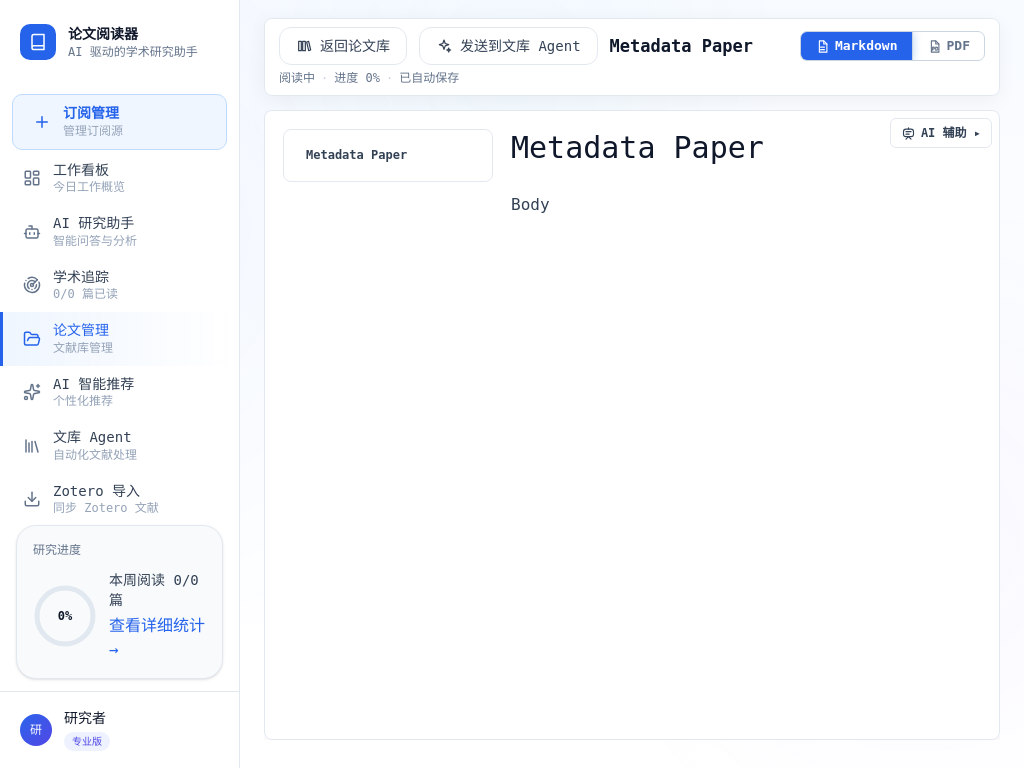
Test case: reader route translates blocks, shows failures, and retries
// 打开抽屉并切换到结构块
Click the button "AI 辅助 ▸" at {"x": 941, "y": 133}, box [890,118,992,148]
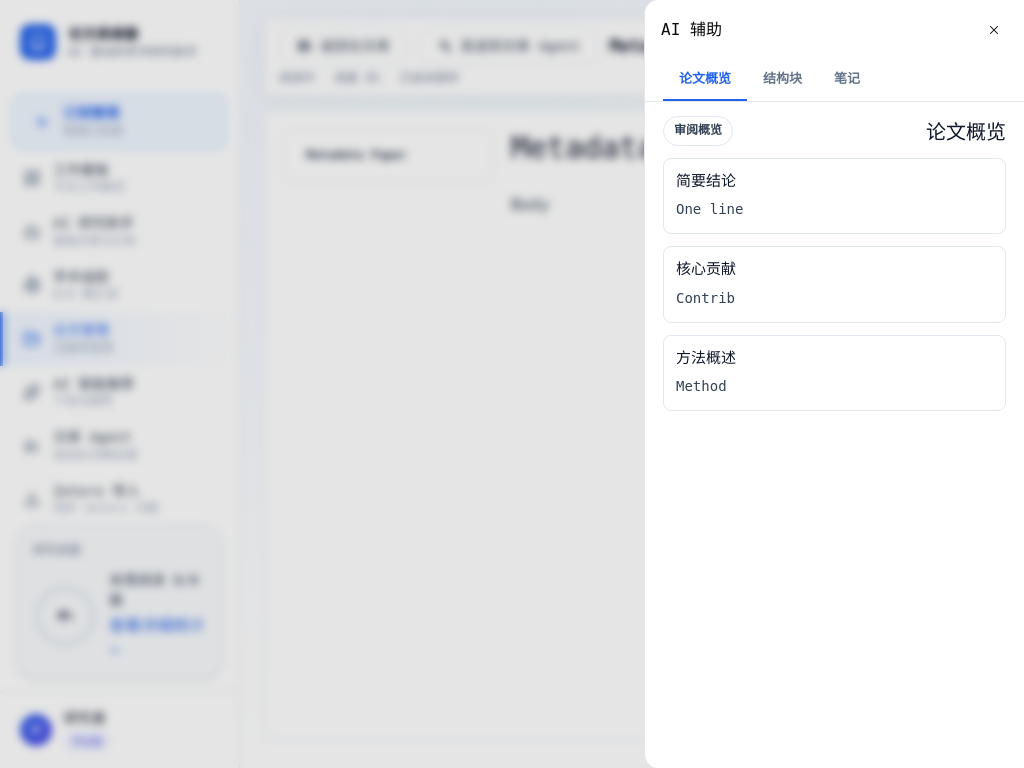
Click the tab "结构块" at {"x": 782, "y": 80}, box [747,60,818,101]
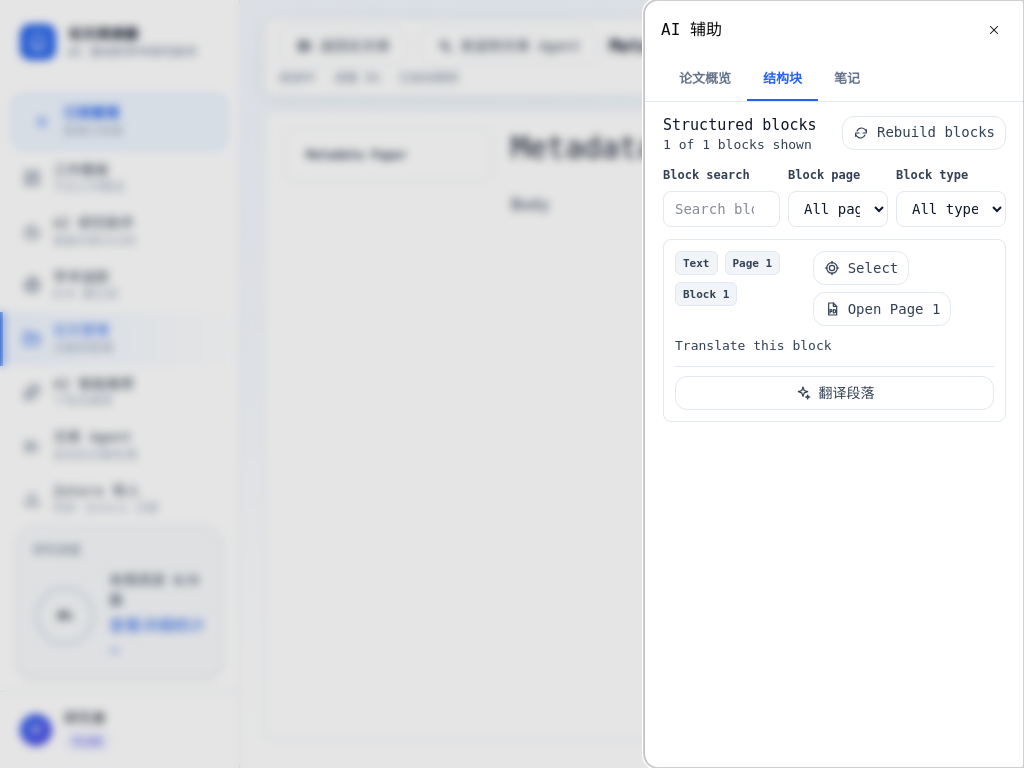
Click the button "翻译段落" at {"x": 834, "y": 394}, box [675,376,994,410]
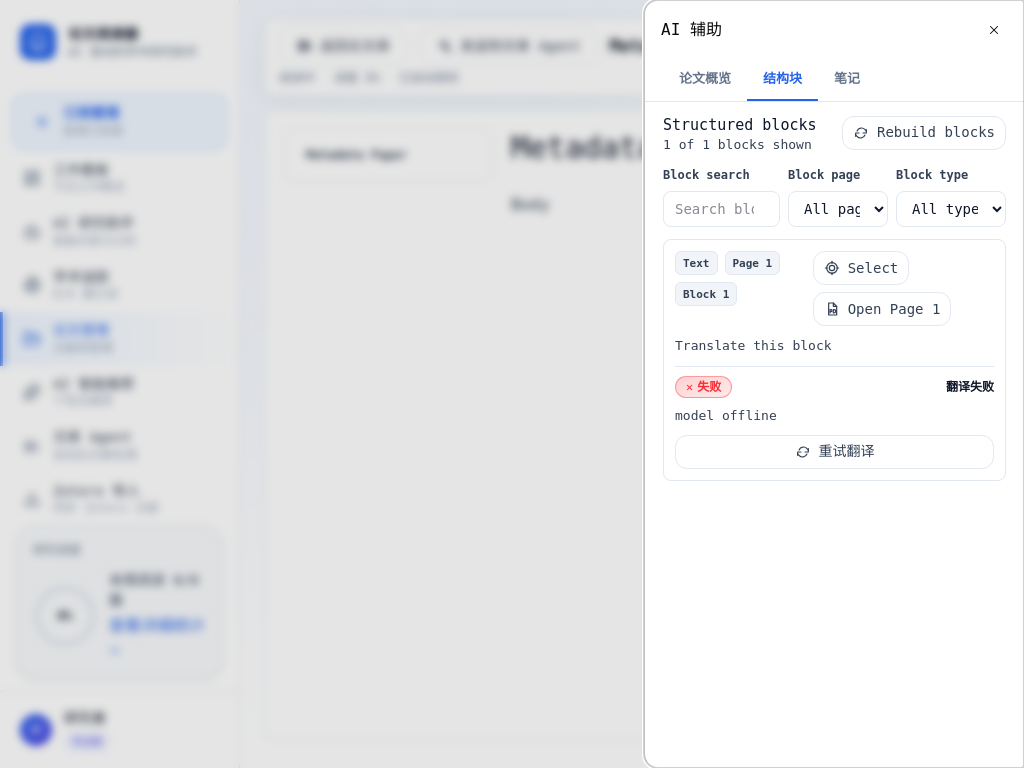
Expected: the text "翻译失败" is shown, [946,379,994,396]
Expected: the text "model offline" is shown, [675,408,777,424]
Click the button "重试翻译" at {"x": 834, "y": 452}, box [675,435,994,469]
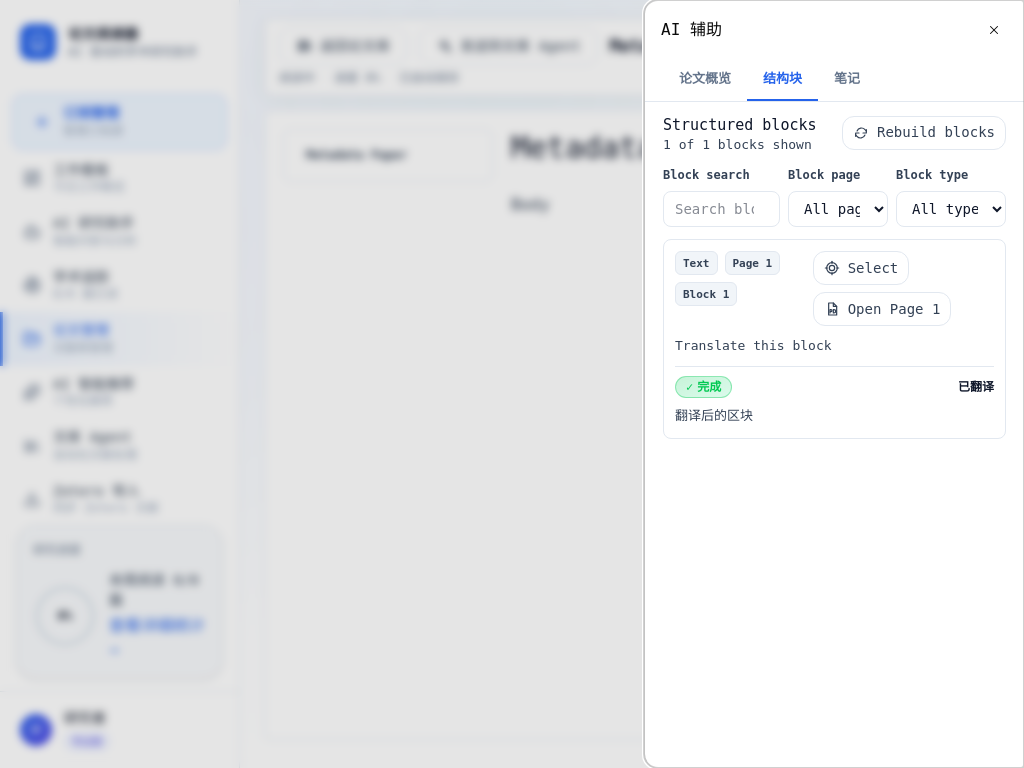
Expected: the text "翻译后的区块" is shown, [675,408,753,424]
